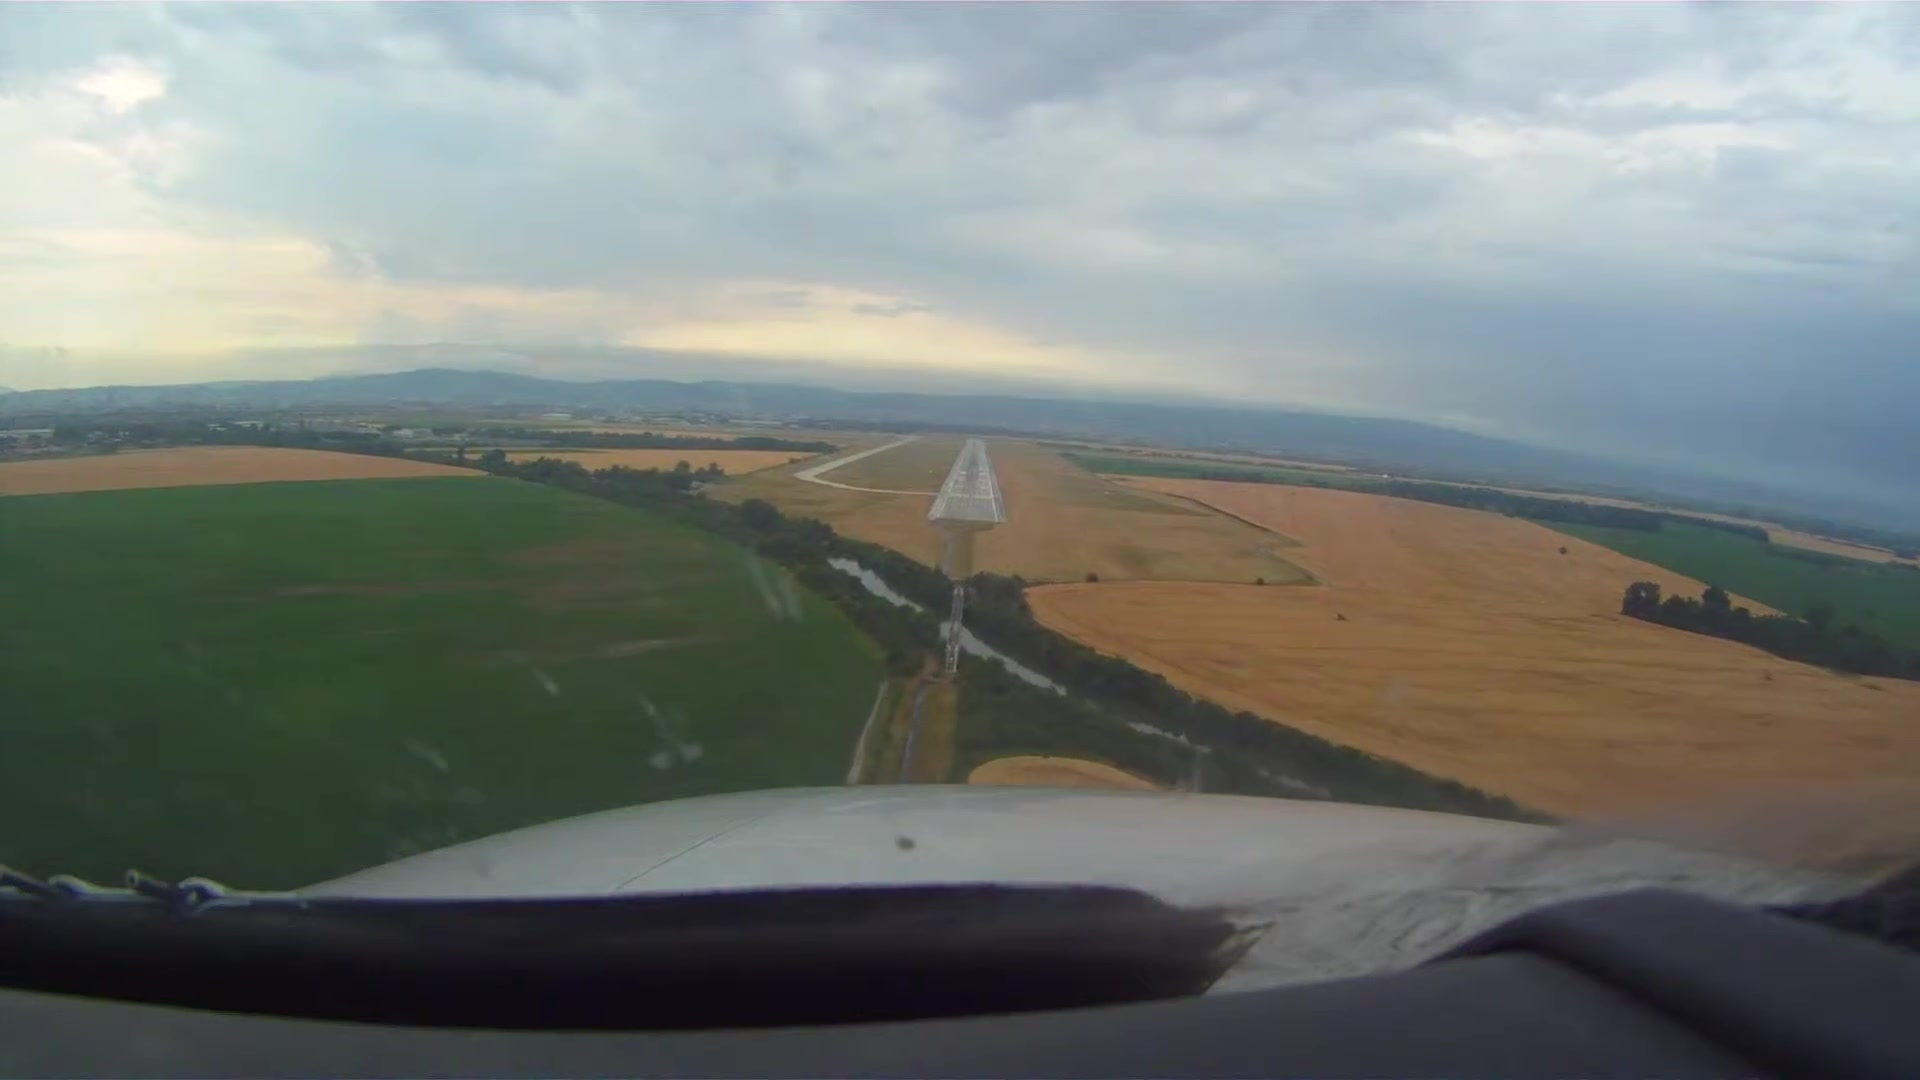runway: (932, 438, 1007, 524)
